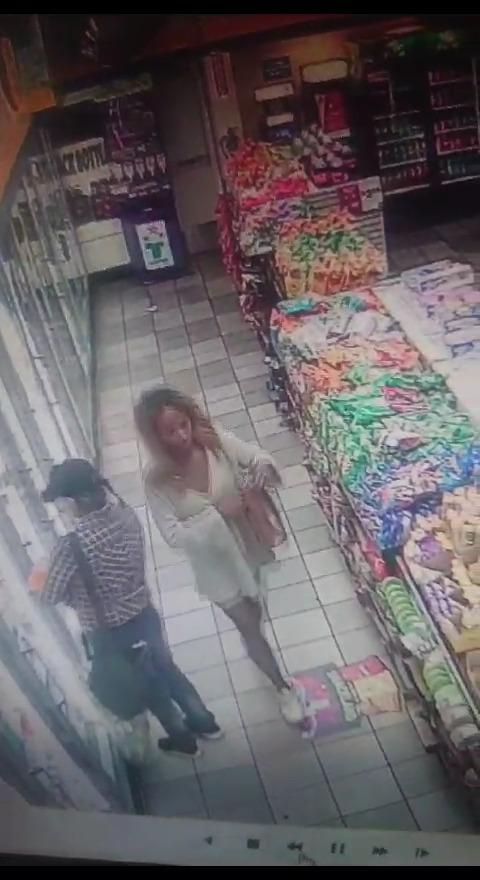Normal: (33, 460, 220, 787)
shoplifting: (148, 386, 290, 689)
